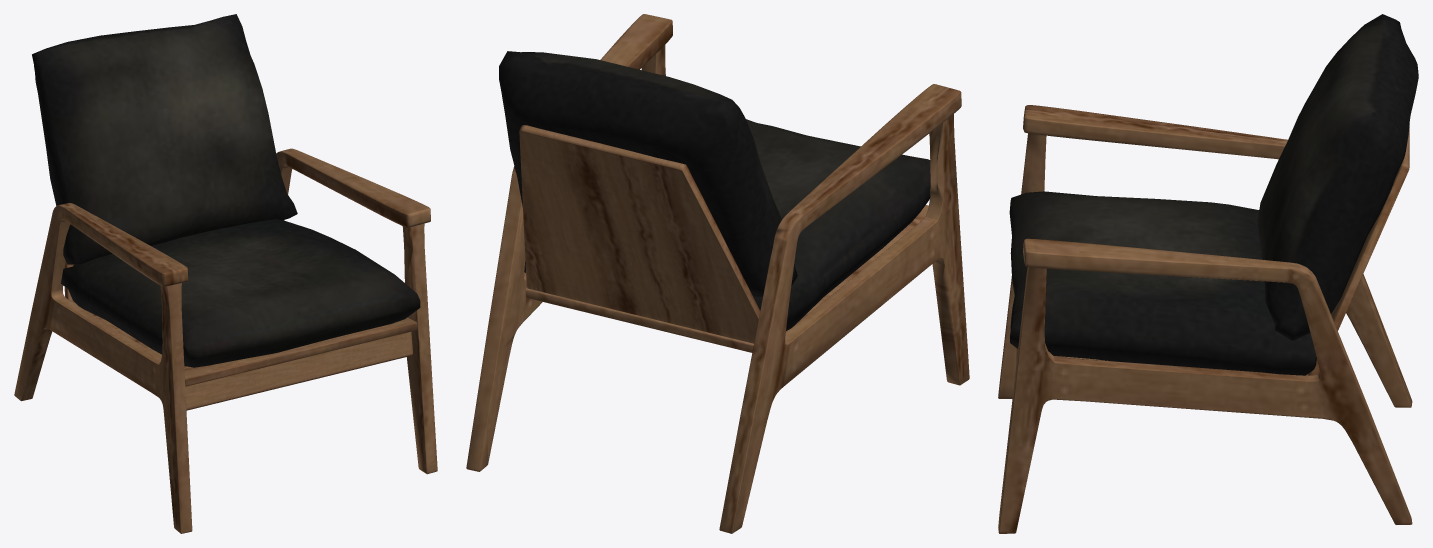
Rendered from modern_arm_chair_01.gltf.
3 views of the same model, side by side, from view 1: azimuth 30°, elevation 25°; view 2: azimuth 150°, elevation 25°; view 3: azimuth 270°, elevation 25° (orthographic). The views are drawn at different scales.
Visible parts, largest first — view 1: modern_arm_chair_01; view 2: modern_arm_chair_01; view 3: modern_arm_chair_01.
Boxes of the visible parts, box(x1,y1,x2,y2) form: modern_arm_chair_01: box(14, 14, 437, 533); modern_arm_chair_01: box(466, 14, 969, 533); modern_arm_chair_01: box(998, 14, 1418, 533).
Size of the model in its own units: 0.8203 by 1.02 by 0.9866.
Materials: 2 (2 with a texture image).
